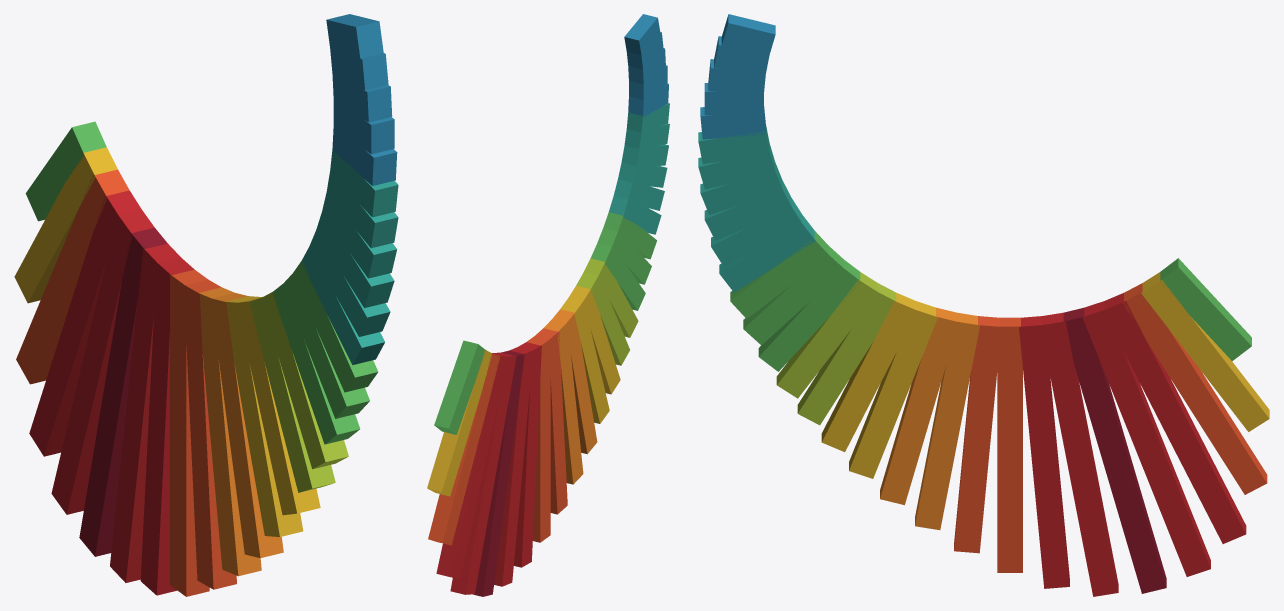
Rendered from journal_bearing_pressure.glb.
3 renders of one model, left to right at view 1: azimuth 30°, elevation 25°; view 2: azimuth 150°, elevation 25°; view 3: azimuth 270°, elevation 25°, orthographic. The views are drawn at different scales.
Visible parts, largest first — view 1: pressure__front, pressure__back; view 2: pressure__front, pressure__back; view 3: pressure__front, pressure__back.
Boxes of the visible parts, x1,y1,x2,y2 form: pressure__front: (178,14,398,596); pressure__back: (14,121,200,595); pressure__front: (531,14,669,538); pressure__back: (427,339,545,596); pressure__front: (698,14,1010,572); pressure__back: (1010,258,1269,596).
Size of the model in its own units: 0.01 by 0.2957 by 0.2667.
